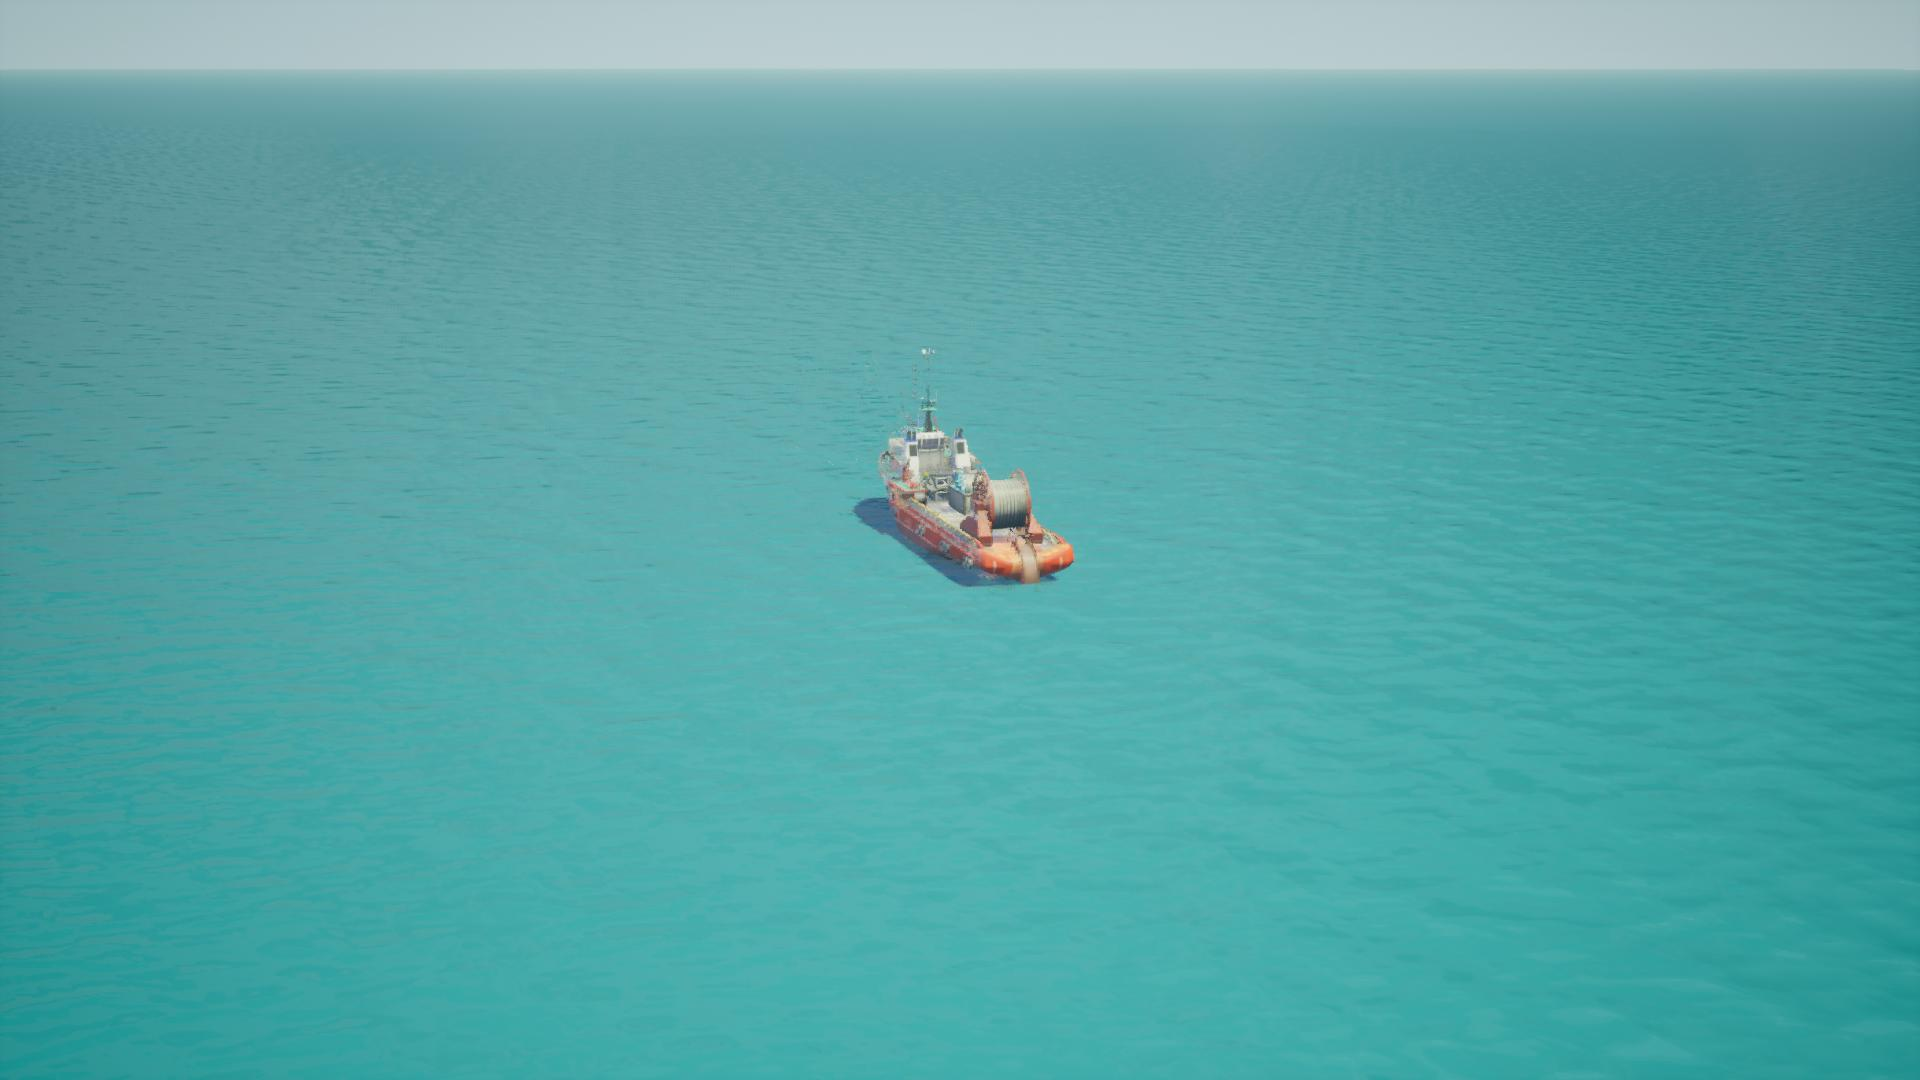Tug Boat: (877, 367, 1009, 595)
